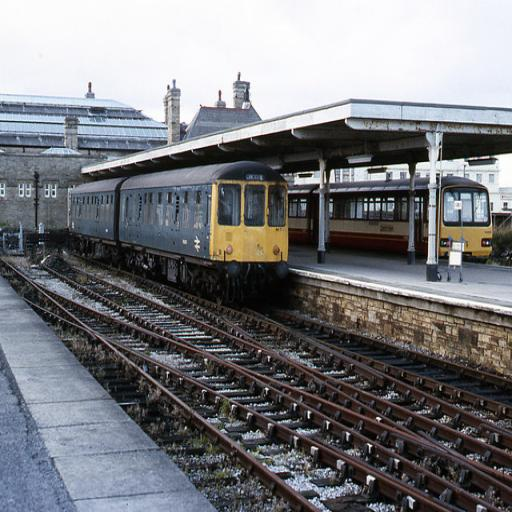platform_edge: (2, 289, 222, 512), (303, 256, 512, 328)
